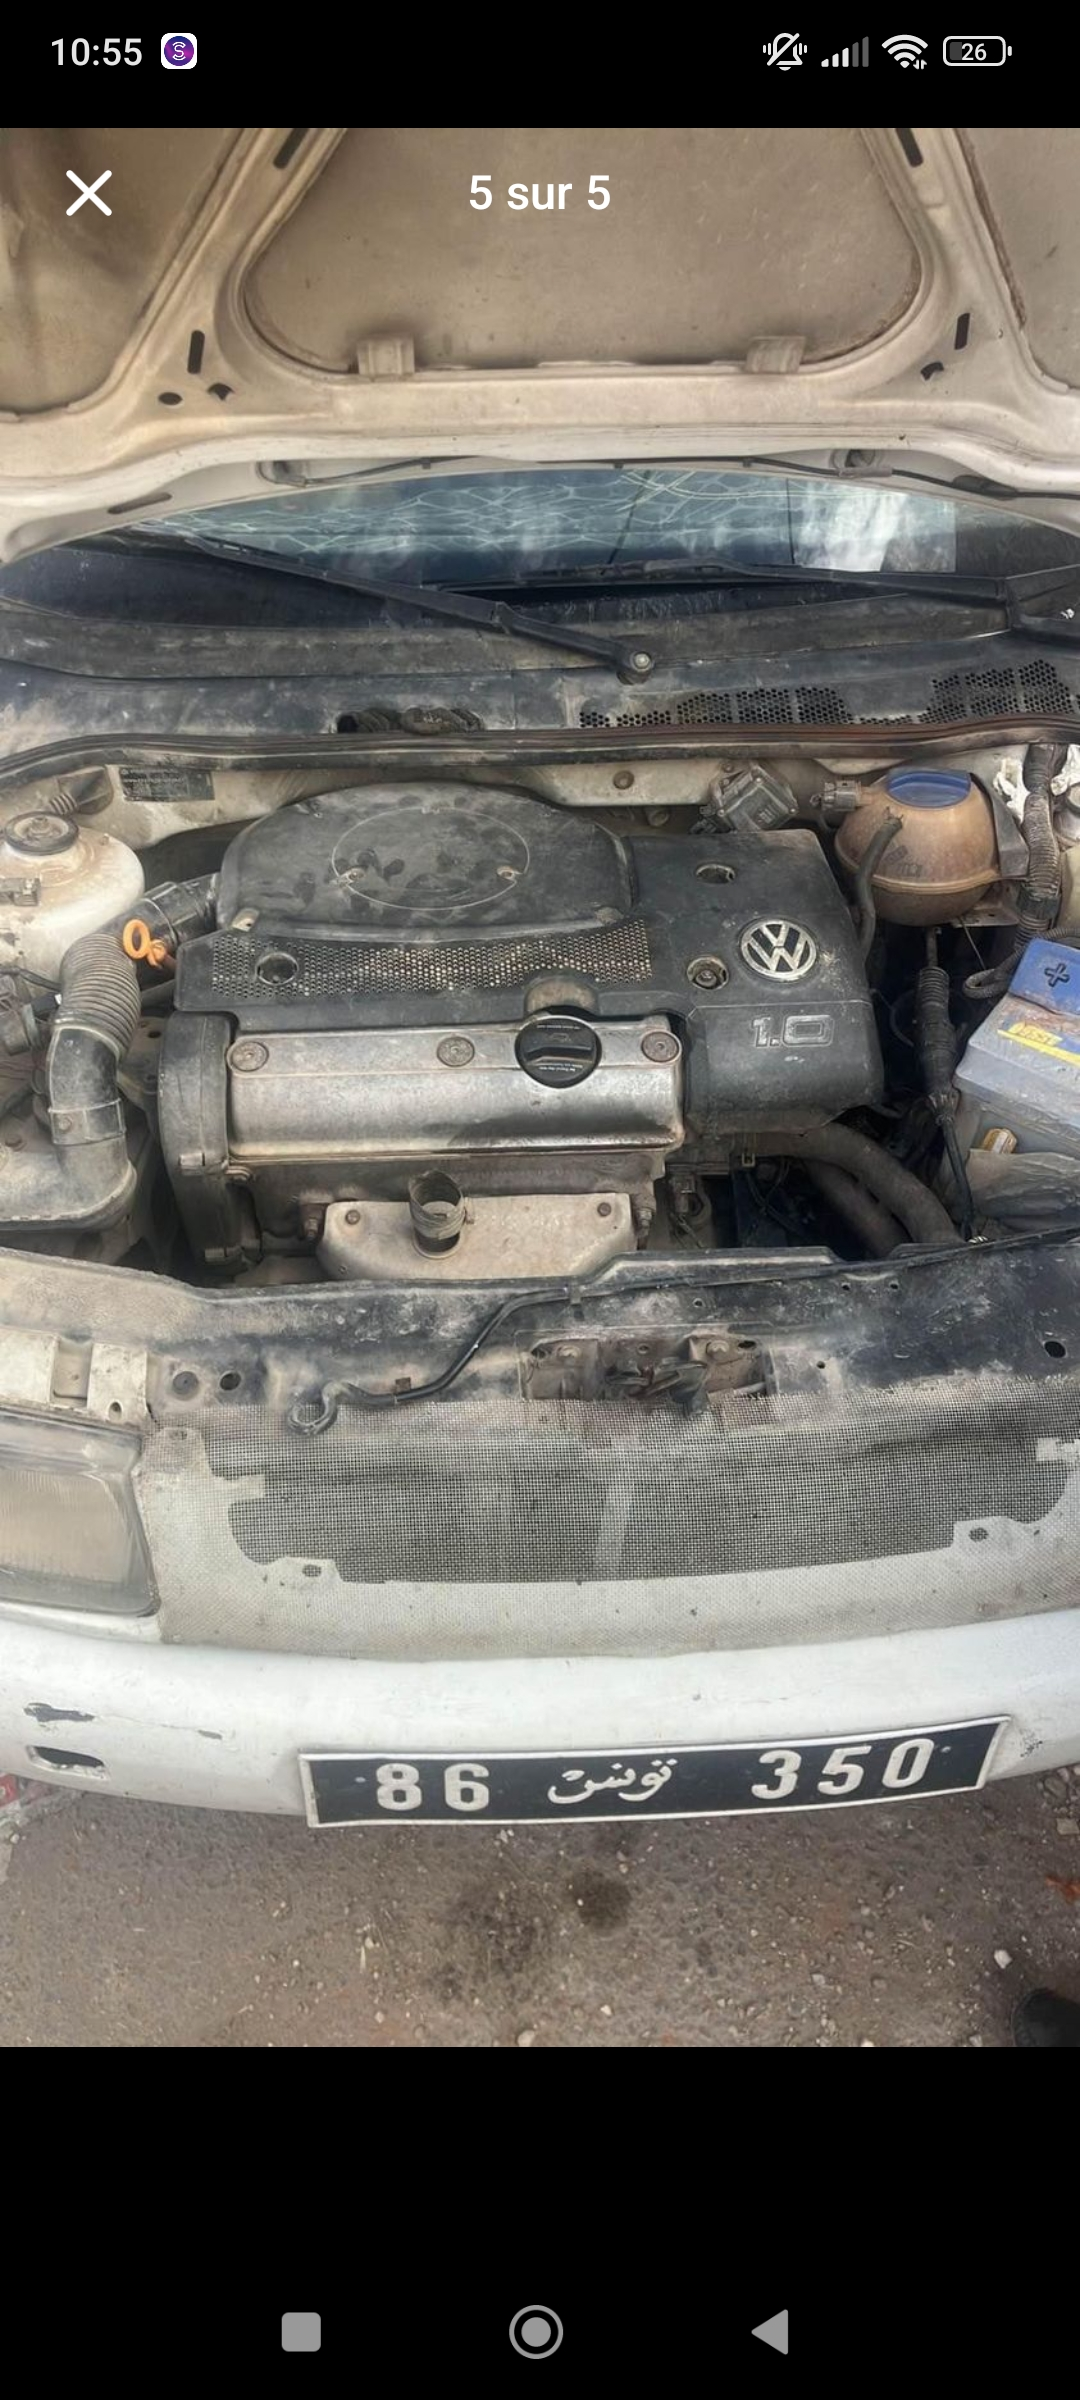volkswagen: (5, 442, 1080, 1864)
